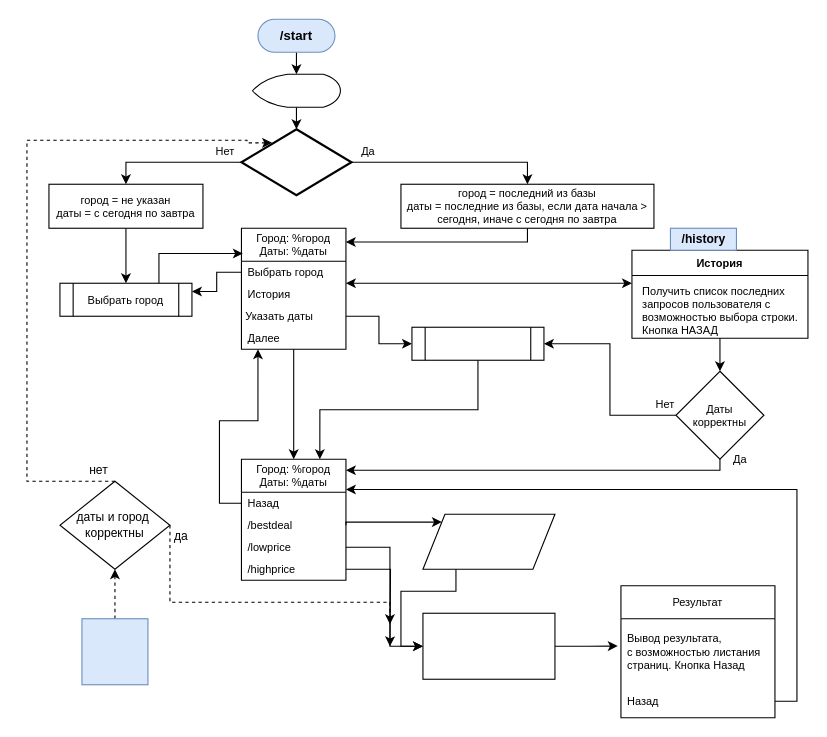
The diagram is 827 pixels wide and 737 high, and some of its shapes have lost their labels. Each missing label, with the centre of its shape:
%user есть в базе?: the point at 296,162
Ввод расстояния от центра: the point at 488,541
Запрос через API Hotels.com: the point at 488,645
Команды /lowprice /highprice /bestdeal: the point at 114,651
Привет, %user: the point at 295,90
Указать корректные даты: the point at 477,343
